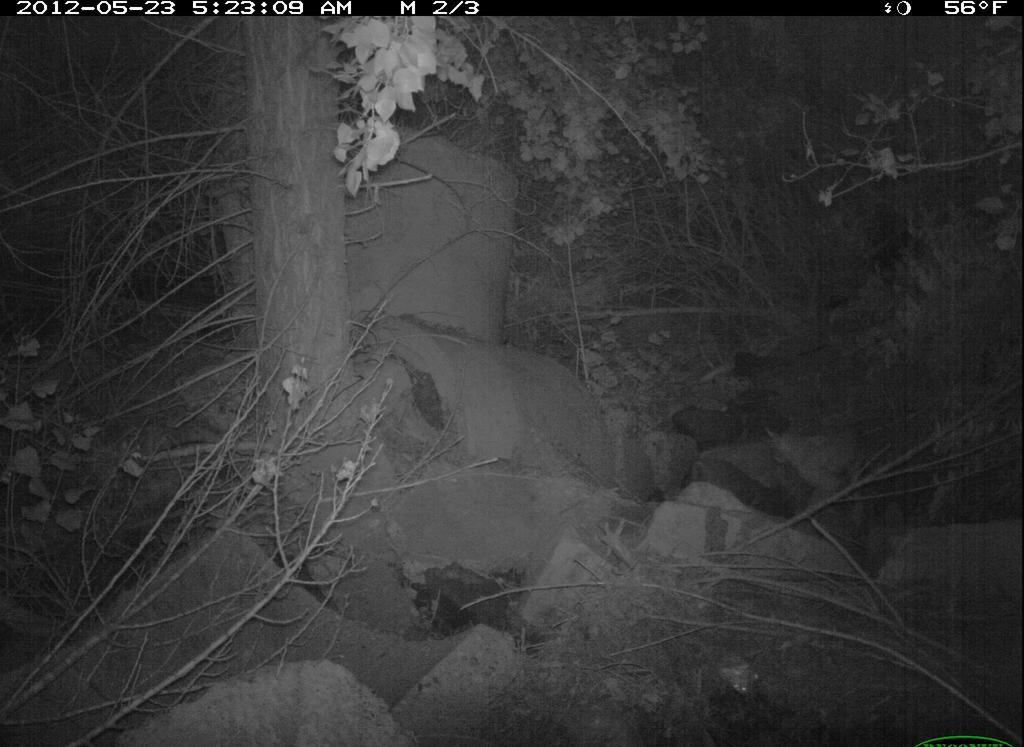bobcat: (743, 395, 902, 539)
